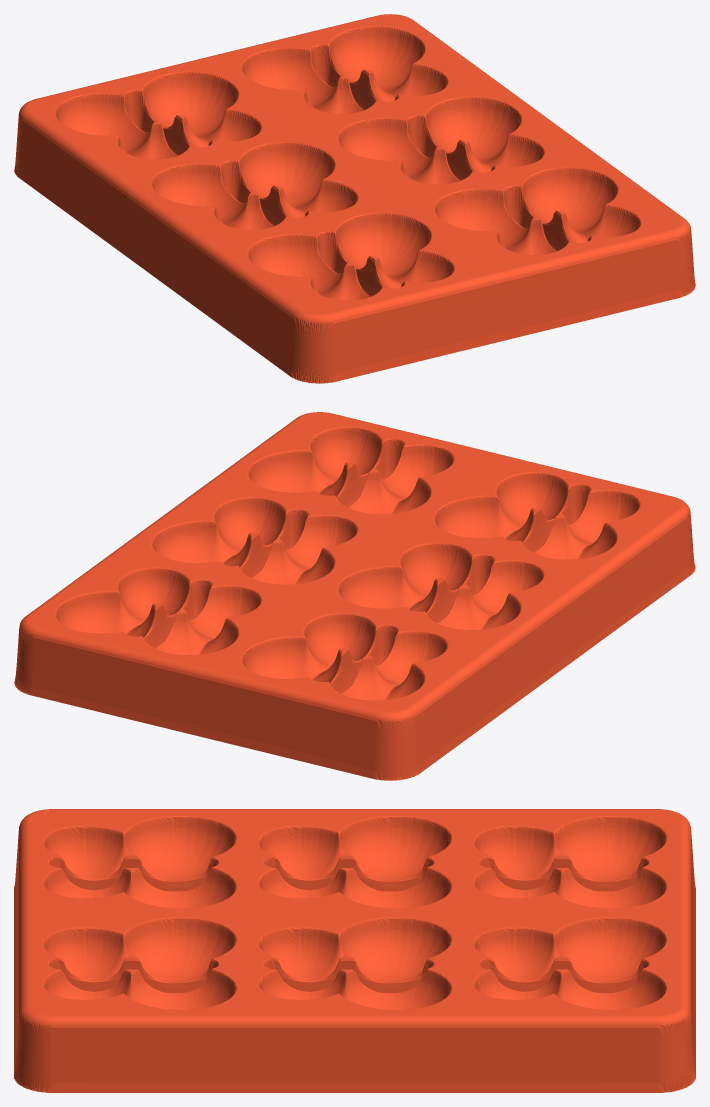
File: mold.glb
3 renders of one model, top to bottom at view 1: azimuth 30°, elevation 25°; view 2: azimuth 150°, elevation 25°; view 3: azimuth 270°, elevation 25°, orthographic. The views are drawn at different scales.
Parts seen in each view (by area): view 1: geometry_0; view 2: geometry_0; view 3: geometry_0.
Part boxes in pixels (x1,y1,x2,y2): geometry_0: (14,14,695,383); geometry_0: (14,412,695,780); geometry_0: (14,809,695,1092).
Size of the model in its own units: 0.1222 by 0.0185 by 0.1612.
